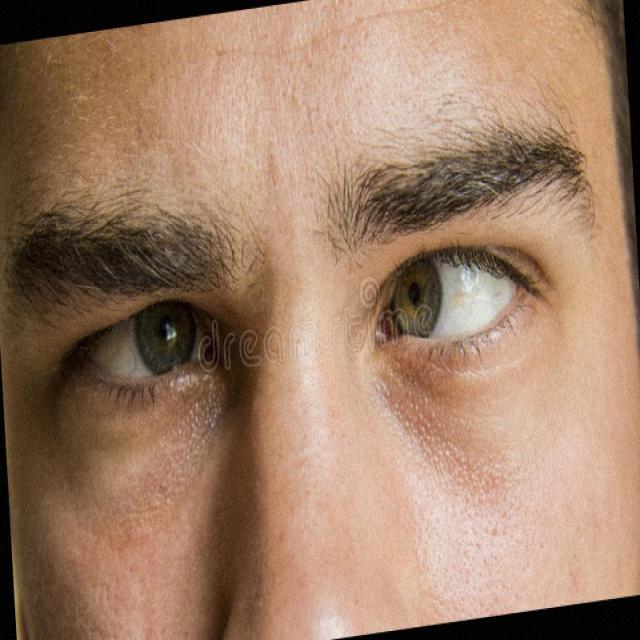Healthy-Eye: (54, 280, 232, 395)
Squint: (368, 252, 542, 382)
